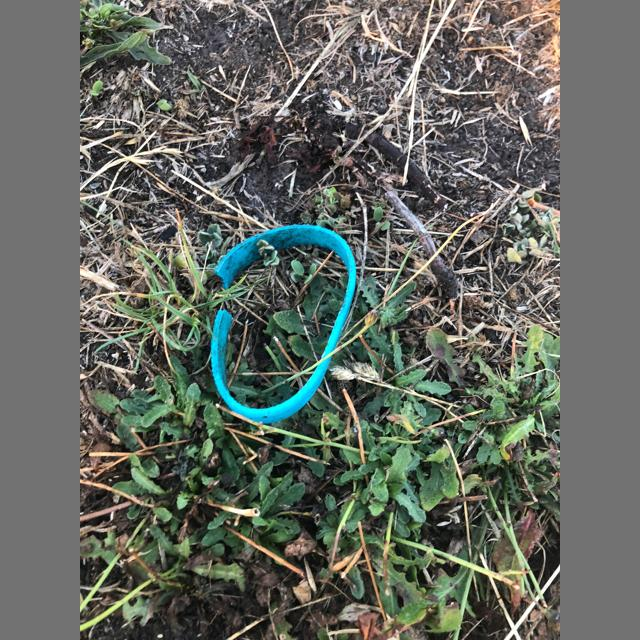litter: (211, 224, 356, 424)
